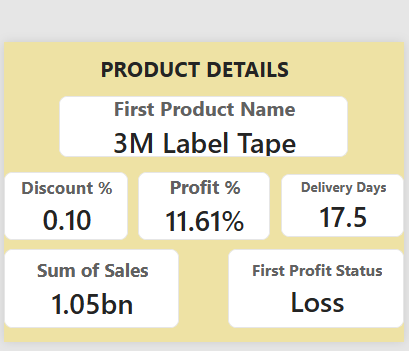

What the dashboard file says about the page in this screenshot:
{"tool":"powerbi","page":{"name":"Product Tooltip","canvas":[400,300],"ordinal":7},"visuals":[{"type":"textbox","box":[10,12,365,42],"z":0},{"type":"cardVisual","fields":{"Data":["Min(Orders.Product Name)"]},"box":[55,54,289,61],"z":1000},{"type":"cardVisual","fields":{"Data":["Orders.Discount %"]},"box":[0,130,124,68],"z":2000},{"type":"cardVisual","fields":{"Data":["Orders.Profit %"]},"box":[134,130,132,68],"z":3000},{"type":"cardVisual","fields":{"Data":["Orders.Average Delivery Days"]},"box":[277,132,123,63],"z":4000},{"type":"cardVisual","fields":{"Data":["Sum(Orders.Sales)"]},"box":[0,207,175,79],"z":5000},{"type":"cardVisual","fields":{"Data":["Min(Orders.Profit Status)"]},"box":[224,207,176,79],"z":6000}]}

Visuals, with their boxes on the page's 400x300 design canvas (x1, y1, x2, y2). These are canvas units, not pixel positions in the 409x351 screenshot, which may show the page scaled, cropped or inside an application window:
textbox: (10,12,375,54)
cardVisual - Min(Orders.Product Name): (55,54,344,115)
cardVisual - Orders.Discount %: (0,130,124,198)
cardVisual - Orders.Profit %: (134,130,266,198)
cardVisual - Orders.Average Delivery Days: (277,132,400,195)
cardVisual - Sum(Orders.Sales): (0,207,175,286)
cardVisual - Min(Orders.Profit Status): (224,207,400,286)
